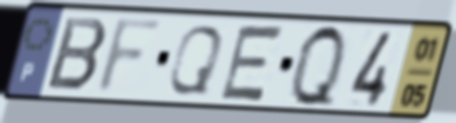4: (346, 27, 393, 110)
B: (43, 14, 111, 94)
E: (215, 22, 289, 105)
F: (91, 15, 170, 98)
Q: (288, 21, 349, 113), (164, 22, 227, 98)
